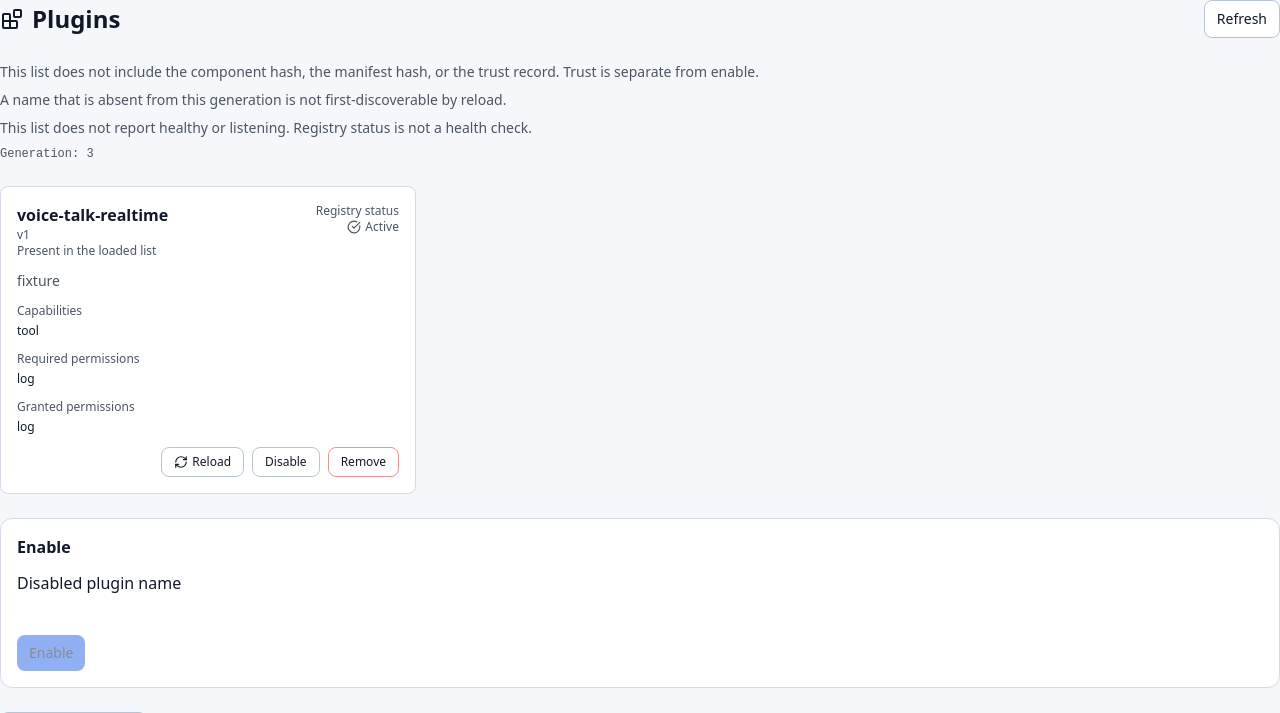
Test case: names the plugin and the trust consequence before removal
The width and height of the screenshot is (1280, 713).
Expected: the button with aria-label "Reload voice-talk-realtime" is shown, [161,447,244,477]
Expected: the button with aria-label "Disable voice-talk-realtime" is shown, [252,447,320,477]
What coordinates should you click on to do the following:
click the button with aria-label "Remove voice-talk-realtime"
I would click on:
 (363, 462)
Its box is [328,447,399,477].
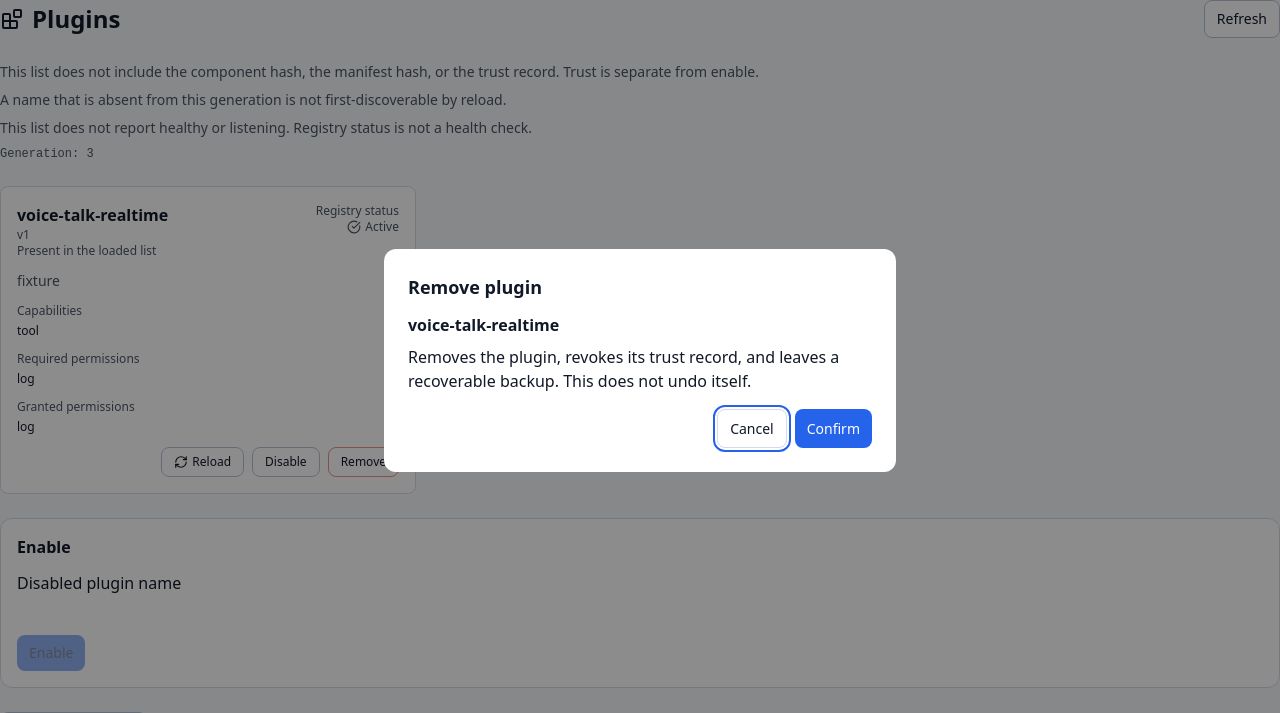
Now the dialog shows "voice-talk-realtime", box [408,314,559,336]
Now the dialog shows "revokes its trust record", box [408,346,839,392]
